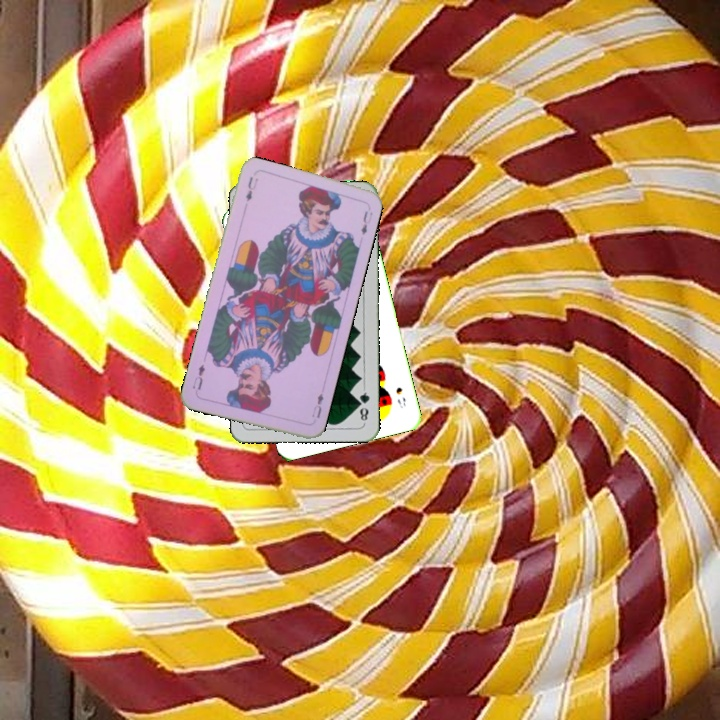EU: (308, 389, 326, 421), (242, 173, 260, 204)
G8: (355, 385, 372, 425)
S8: (392, 383, 408, 411)
